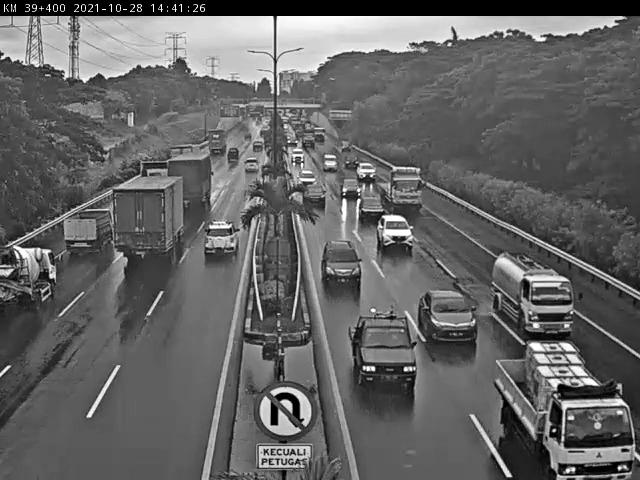big truck: (130, 159, 168, 194)
car: (348, 308, 418, 389), (418, 288, 478, 342), (320, 240, 362, 288), (377, 214, 414, 251), (203, 220, 239, 256), (358, 194, 385, 221), (303, 184, 326, 208), (340, 178, 362, 198)
mid truck: (112, 175, 185, 252), (167, 154, 213, 206), (376, 166, 424, 209)
small truck: (493, 343, 640, 480), (62, 209, 114, 252)
truck-m-: (494, 249, 577, 334)
